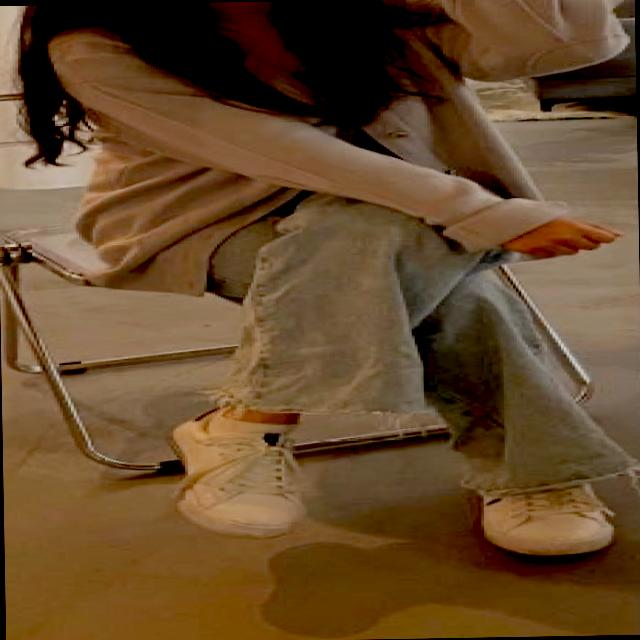cardigan: (35, 0, 638, 301)
denimpants: (174, 178, 640, 502)
